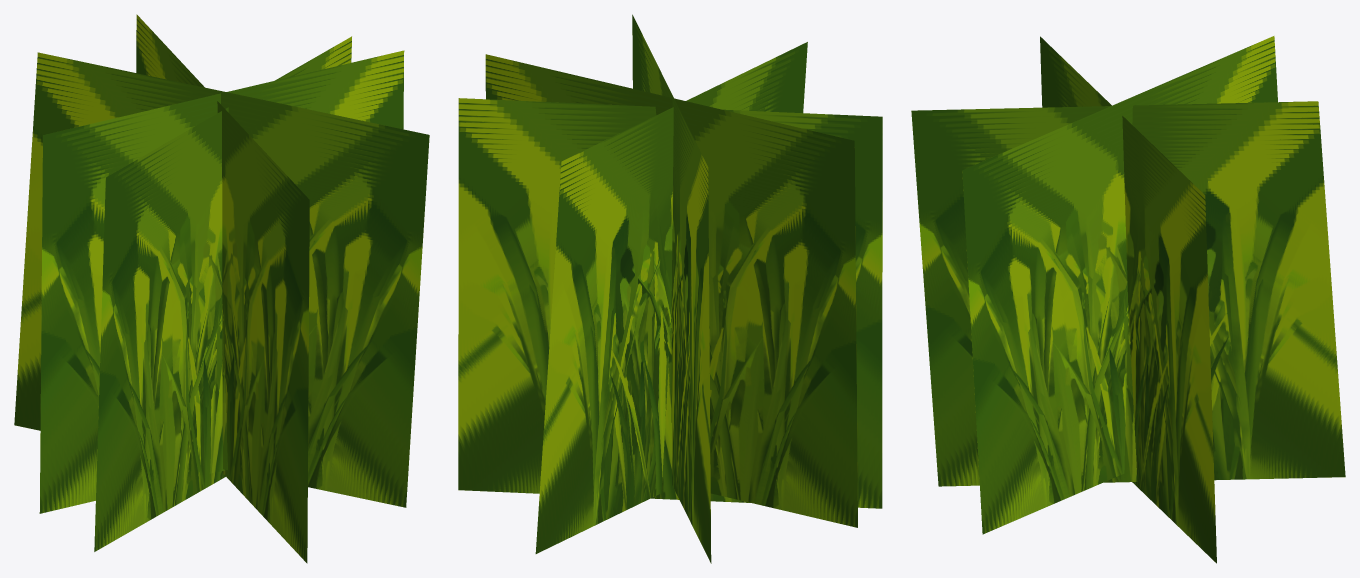
The model's file is grass.glb.
3 renders of one model, left to right at view 1: azimuth 30°, elevation 25°; view 2: azimuth 150°, elevation 25°; view 3: azimuth 270°, elevation 25°, orthographic. The views are drawn at different scales.
Parts seen in each view (by area): view 1: Plane; view 2: Plane; view 3: Plane.
Part boxes in pixels (x1,y1,x2,y2): Plane: (14,14,429,563); Plane: (458,14,882,563); Plane: (911,36,1345,563).
Bounding box in the file's own units: 202 × 217 × 212.
Materials: 1 (1 with a texture image).
